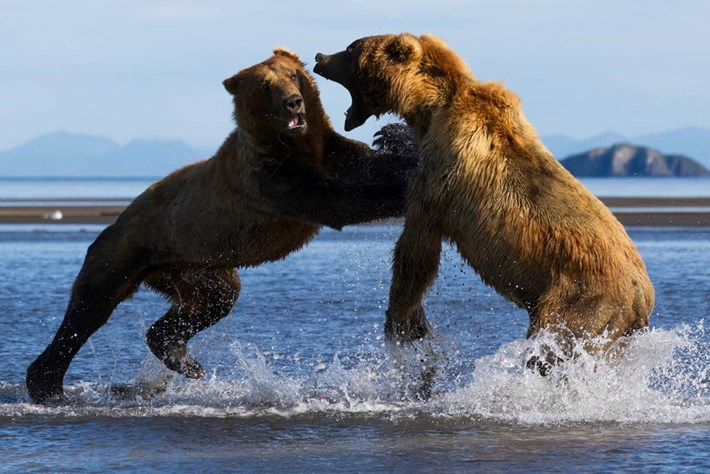bear: (314, 30, 464, 133), (221, 46, 325, 141)
